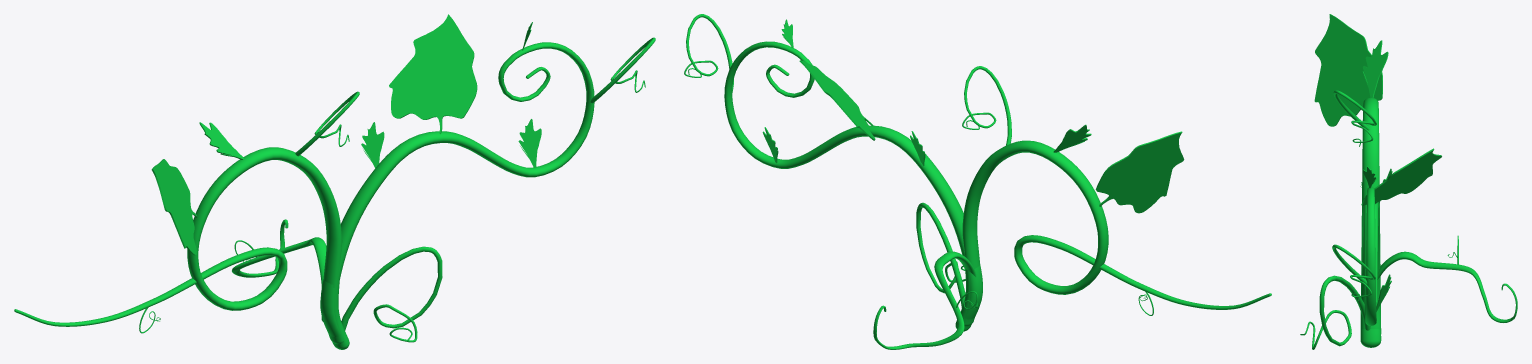
The model's file is pumpkinVine.fbx.
3 views of the same model, side by side, from view 1: azimuth 30°, elevation 25°; view 2: azimuth 150°, elevation 25°; view 3: azimuth 270°, elevation 25° (orthographic). The views are drawn at different scales.
Parts seen in each view (by area): view 1: root (×11); view 2: root (×9); view 3: root (×10).
Part boxes in pixels (left/top/right/bottom): root (×11): left=14, top=14, right=655, bottom=349; root (×9): left=684, top=14, right=1271, bottom=349; root (×10): left=1300, top=14, right=1517, bottom=349.
Bounding box in the file's own units: 0.9285 × 0.3992 × 0.2922.
